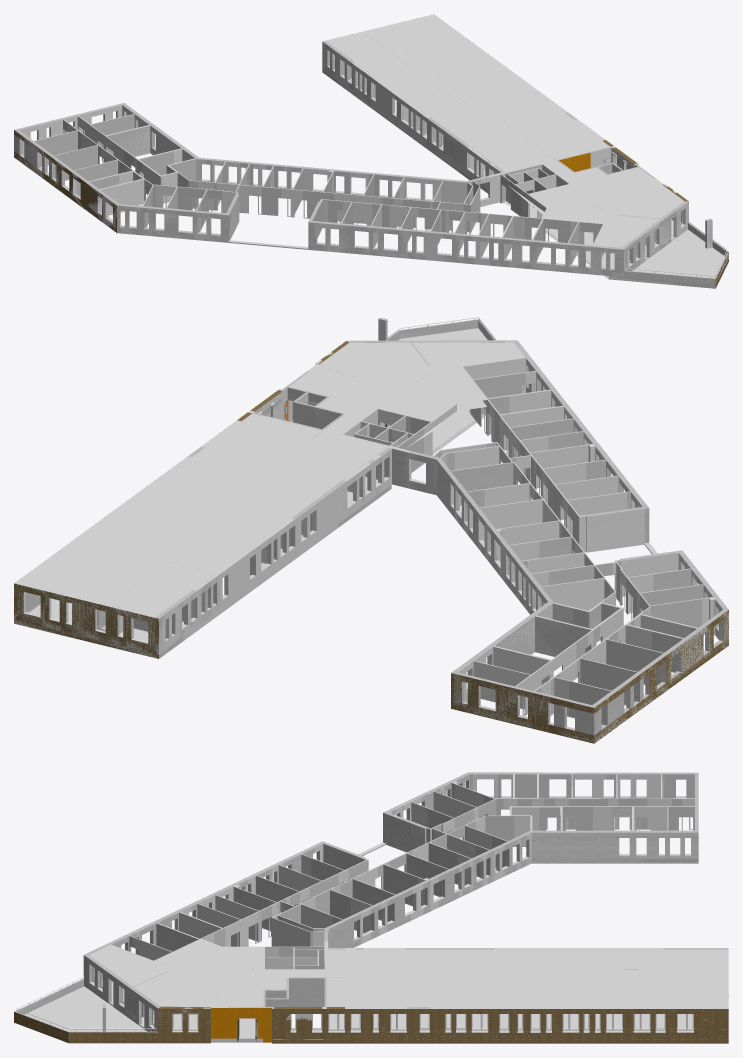
File: 1_floor_aisle_a_sized.glb
3 views of the same model, one above another, from view 1: azimuth 30°, elevation 25°; view 2: azimuth 150°, elevation 25°; view 3: azimuth 270°, elevation 25° (orthographic). The views are drawn at different scales.
Parts seen in each view (by area): view 1: SIMP_COL, NOCOL_Murs, NOCOL_Plafond, NOCOL_UFR_MIM_V1_Montant_portes.001, NOCOL_Sol; view 2: SIMP_COL, NOCOL_Murs, NOCOL_Plafond, NOCOL_Sol, NOCOL_UFR_MIM_V1_Montant_portes.001; view 3: NOCOL_Murs, SIMP_COL, NOCOL_Plafond, NOCOL_Sol, NOCOL_UFR_MIM_V1_Montant_portes.001.
Boxes of the visible parts, left/top/right/bottom form: SIMP_COL: left=14, top=14, right=728, bottom=284; NOCOL_Murs: left=14, top=40, right=728, bottom=285; NOCOL_Plafond: left=327, top=16, right=684, bottom=247; NOCOL_UFR_MIM_V1_Montant_portes.001: left=64, top=126, right=558, bottom=241; NOCOL_Sol: left=322, top=69, right=728, bottom=288; SIMP_COL: left=14, top=317, right=728, bottom=742; NOCOL_Murs: left=14, top=317, right=728, bottom=743; NOCOL_Plafond: left=21, top=342, right=524, bottom=615; NOCOL_Sol: left=14, top=414, right=485, bottom=658; NOCOL_UFR_MIM_V1_Montant_portes.001: left=480, top=408, right=643, bottom=716; NOCOL_Murs: left=14, top=772, right=728, bottom=1039; SIMP_COL: left=16, top=774, right=728, bottom=1042; NOCOL_Plafond: left=89, top=939, right=724, bottom=1006; NOCOL_Sol: left=14, top=1019, right=728, bottom=1043; NOCOL_UFR_MIM_V1_Montant_portes.001: left=230, top=809, right=693, bottom=946.
Size of what is drawn, in the model's own units: 51.13 by 3.45 by 64.43.
25 materials, 9 textured.
